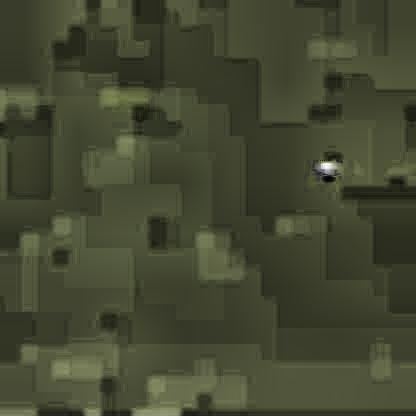golfball: (314, 158, 336, 178)
